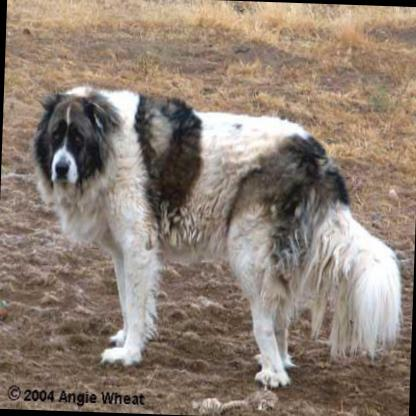Tibetan_mastiff: (21, 80, 406, 395)
